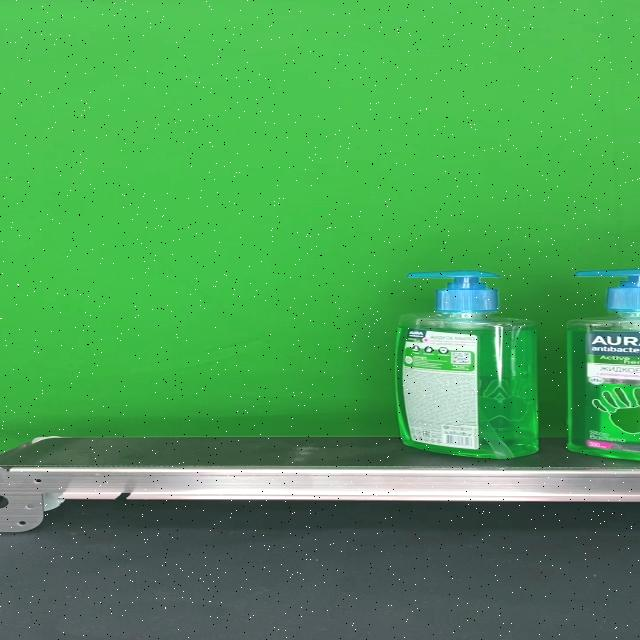Bottle: (393, 270, 539, 460)
Cap: (407, 270, 500, 312)
